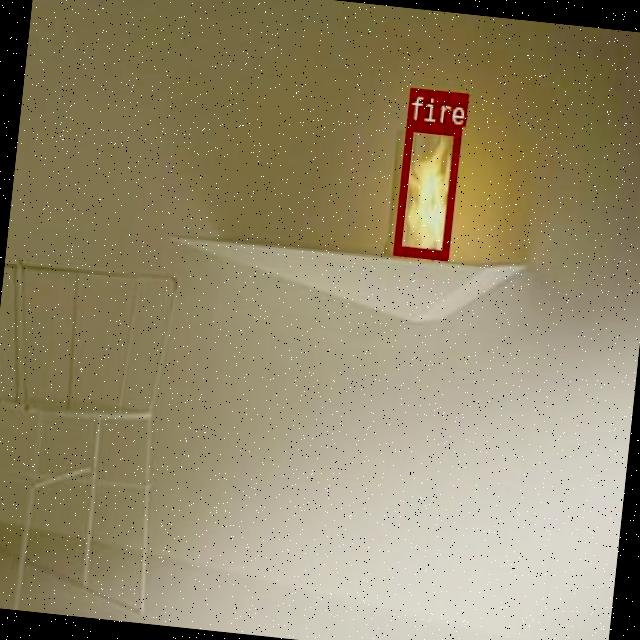fire: (391, 119, 460, 258)
